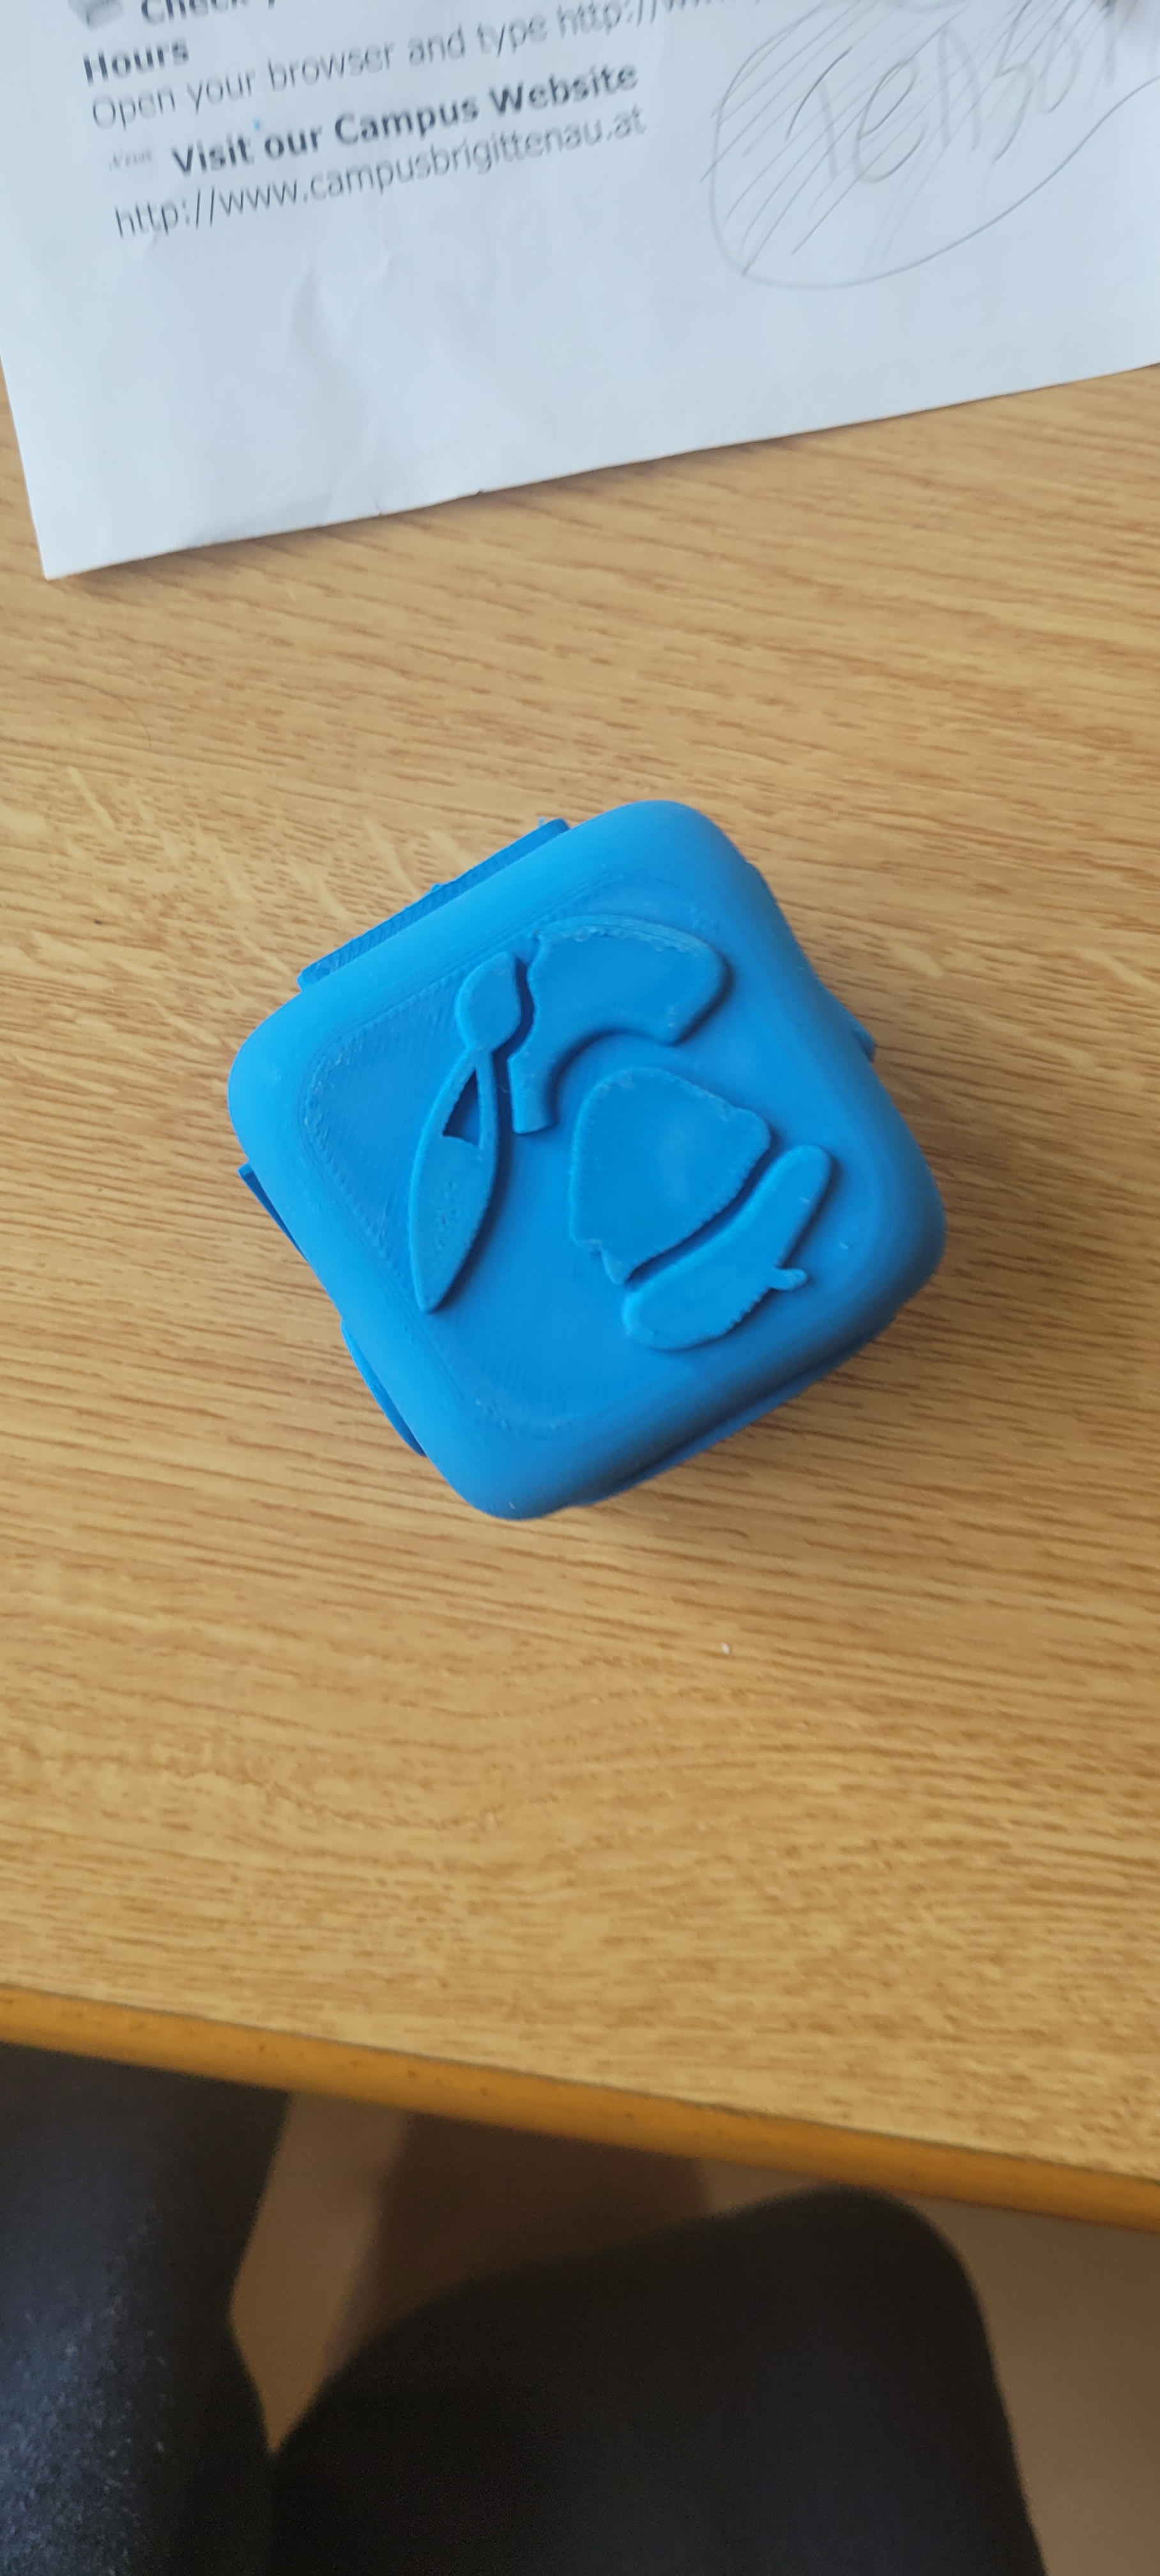Artist_Info: (210, 910, 1010, 1529)
